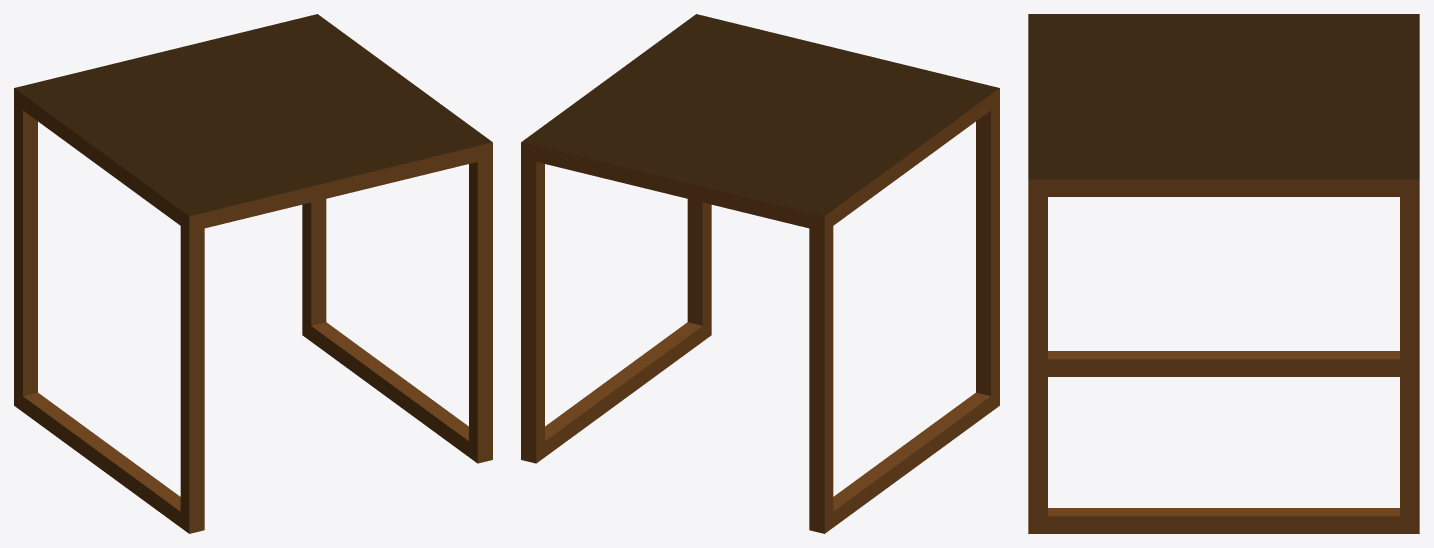
Rendered from SideTable.fbx.
The picture shows the model from 3 angles, left to right: view 1: azimuth 30°, elevation 25°; view 2: azimuth 150°, elevation 25°; view 3: azimuth 270°, elevation 25°; orthographic projection. The views are drawn at different scales.
Visible parts, largest first — view 1: Cube; view 2: Cube; view 3: Cube.
Part boxes in pixels (bbox=[...]): Cube: bbox=[14, 14, 492, 533]; Cube: bbox=[521, 14, 999, 533]; Cube: bbox=[1028, 14, 1419, 533].
Size of the model in its own units: 200 by 200 by 200.
